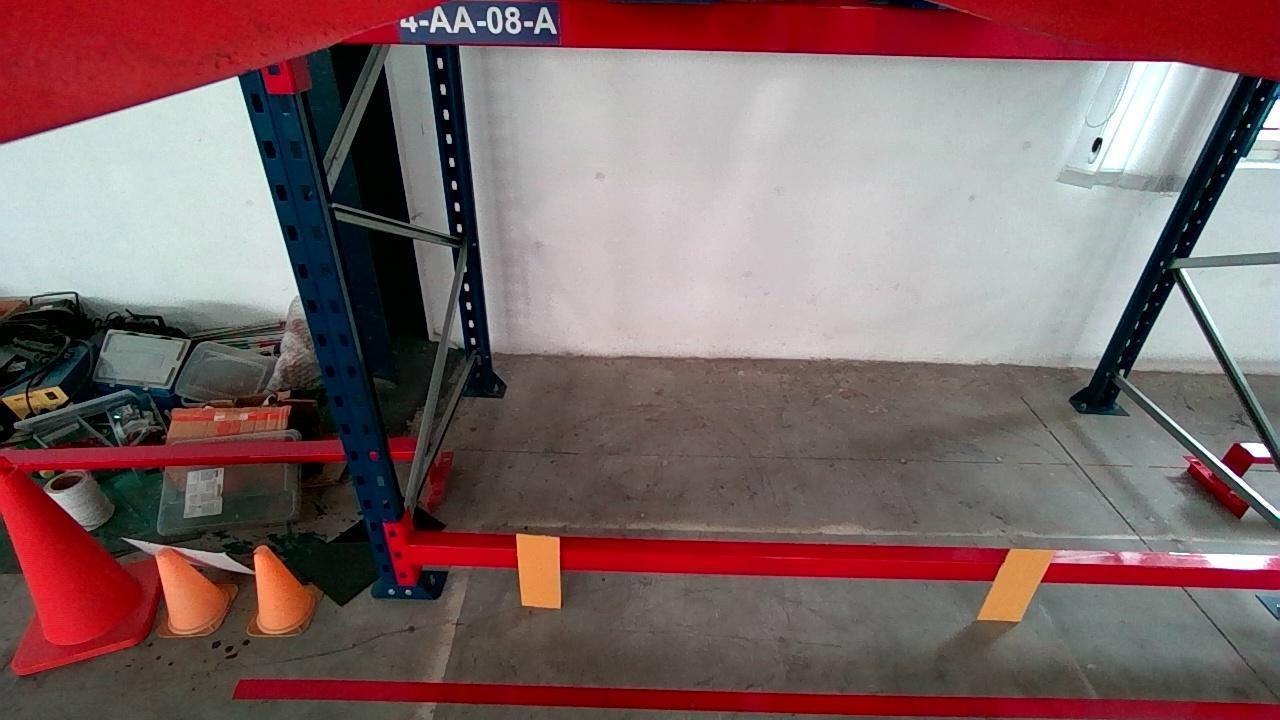h_rack: (345, 2, 1175, 60), (233, 678, 1280, 720), (407, 542, 1280, 590)
orange_strip: (977, 550, 1058, 619), (519, 535, 559, 609)
